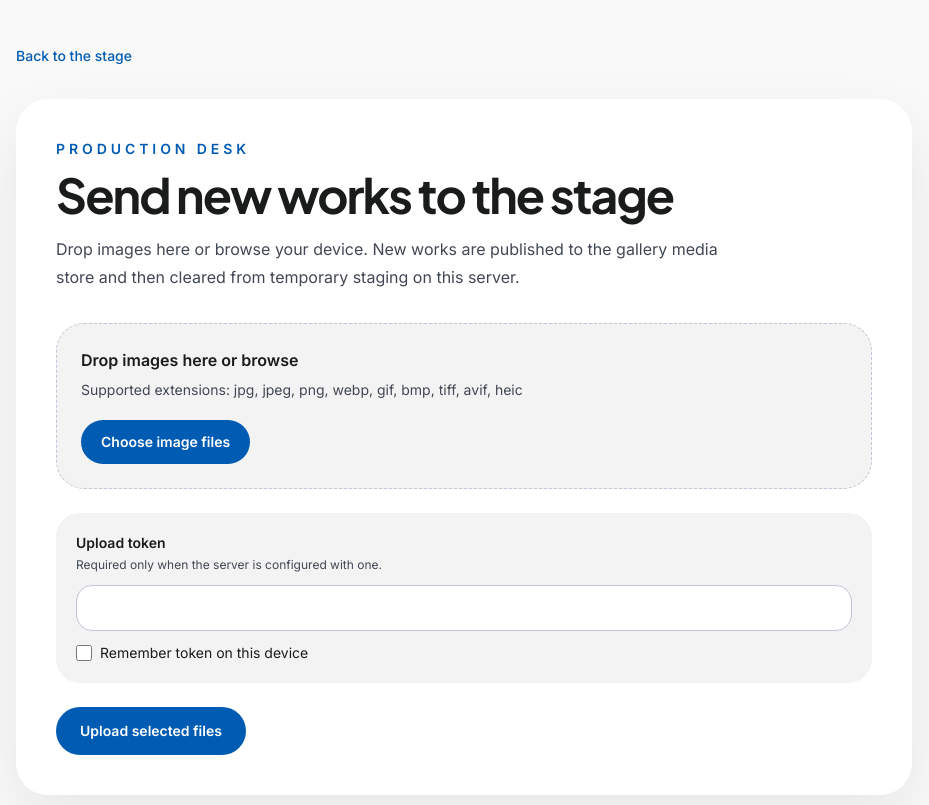
UploadPage › shows a useful error when no file is selected
The image size is (929, 805).
Click the button "Upload selected files": {"x": 151, "y": 731} [56,707,246,755]
(page scrolled)
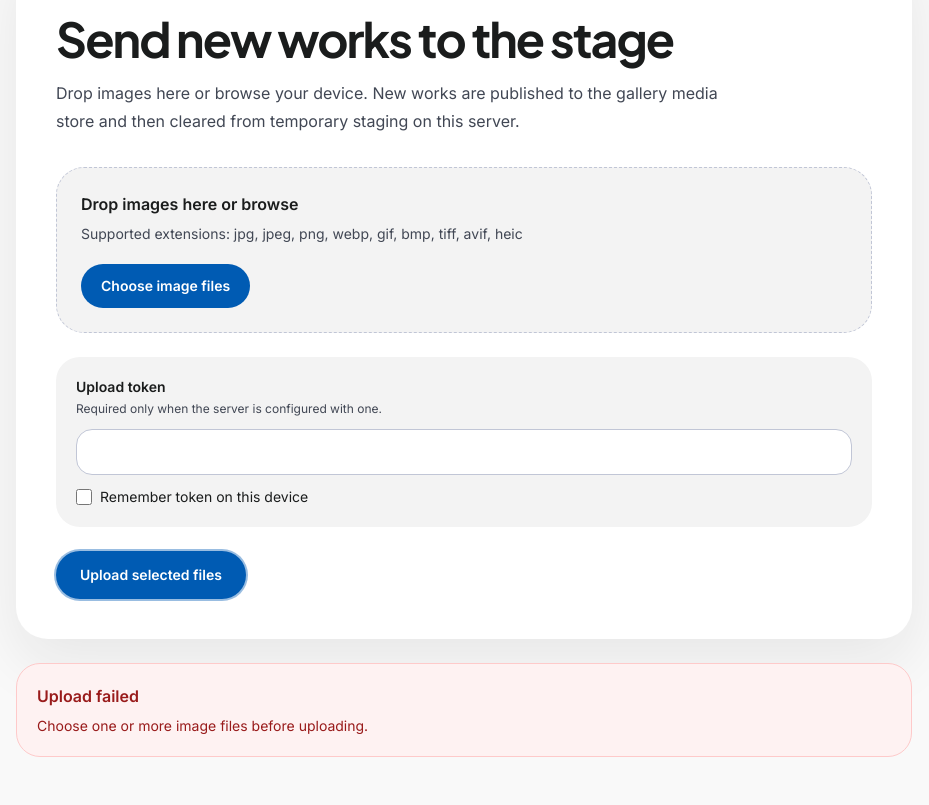
Check: the message shows "Choose one or more image files before uploading.", box [37,717,368,734]
